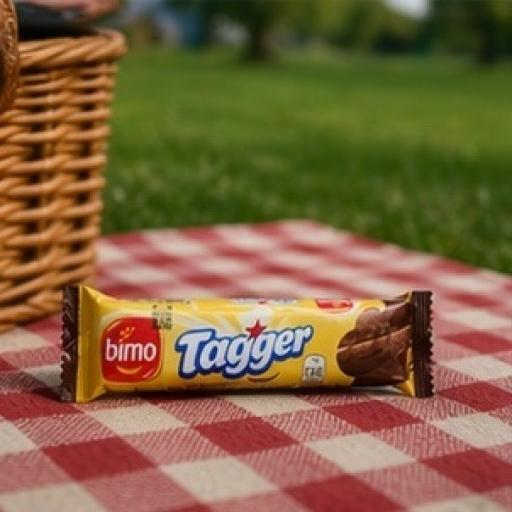tagger: (36, 228, 490, 477)
